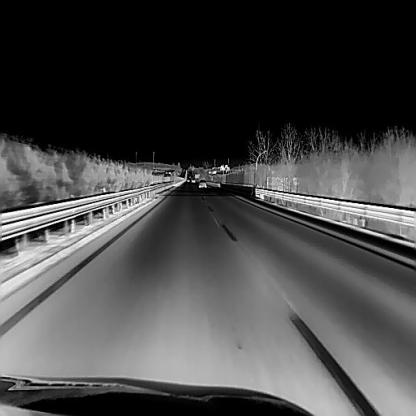car: (198, 177, 206, 188)
